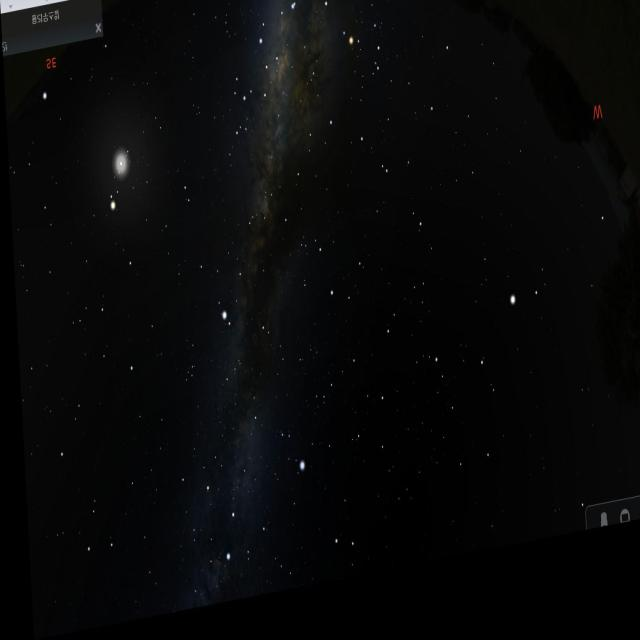aquila: (188, 194, 282, 365)
bootes: (426, 280, 542, 520)
cygnus: (193, 394, 266, 581)
lyra: (262, 425, 306, 495)
moon: (99, 130, 135, 191)
sagittarius: (216, 50, 274, 162)
scorpius: (273, 0, 404, 137)
